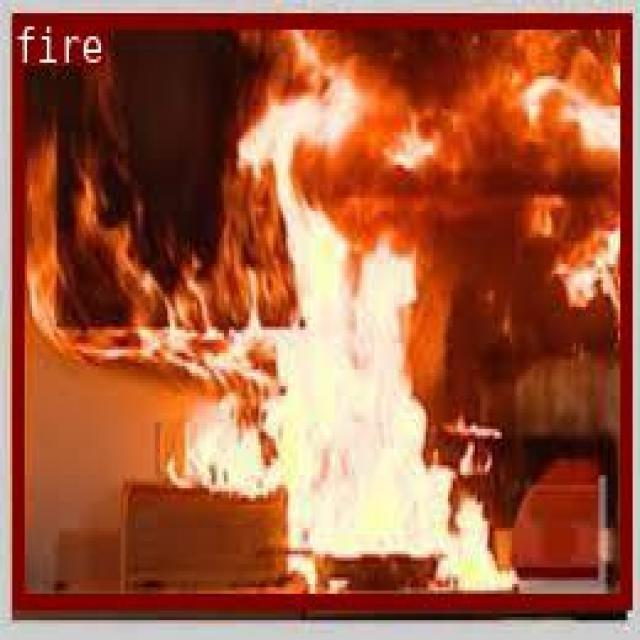fire: (10, 11, 628, 605)
